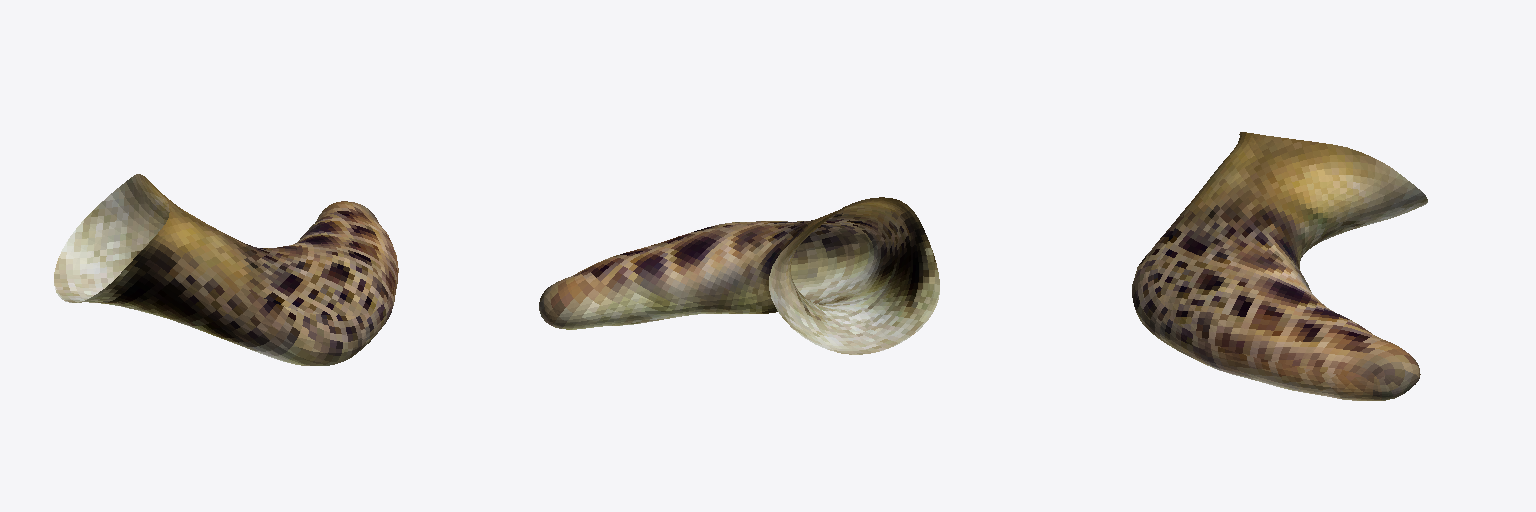
3 renders of one model, left to right at view 1: azimuth 30°, elevation 25°; view 2: azimuth 150°, elevation 25°; view 3: azimuth 270°, elevation 25°, orthographic.
Visible parts, largest first — view 1: aletaIzquierda; view 2: aletaIzquierda; view 3: aletaIzquierda.
Boxes of the visible parts, <box> form: aletaIzquierda: <box>54,174,398,365</box>; aletaIzquierda: <box>539,197,939,354</box>; aletaIzquierda: <box>1132,132,1427,400</box>.
Bounding box in the file's own units: 0.8091 × 0.3402 × 0.6039.
1 materials, 1 textured.